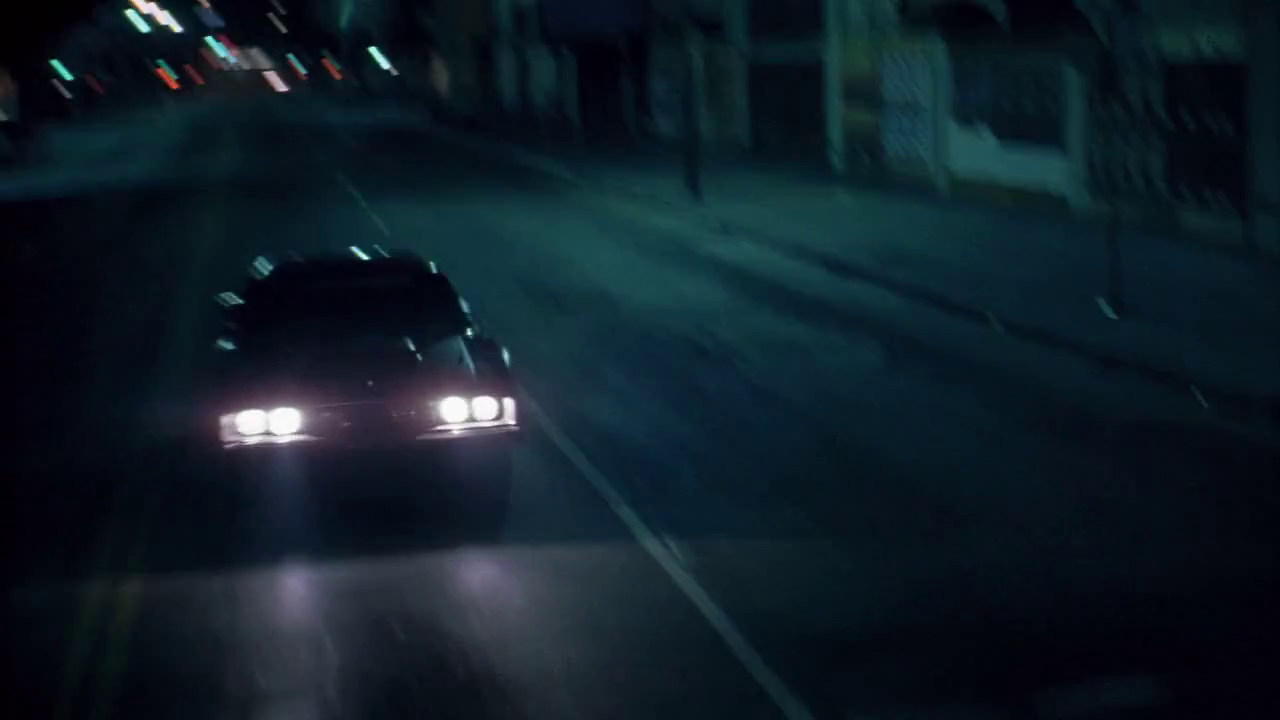car: (168, 242, 526, 530)
